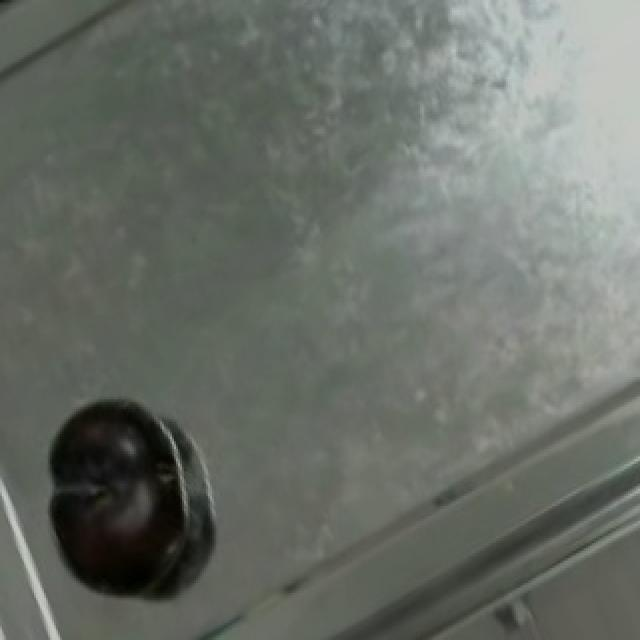Fruit: (36, 417, 206, 610)
